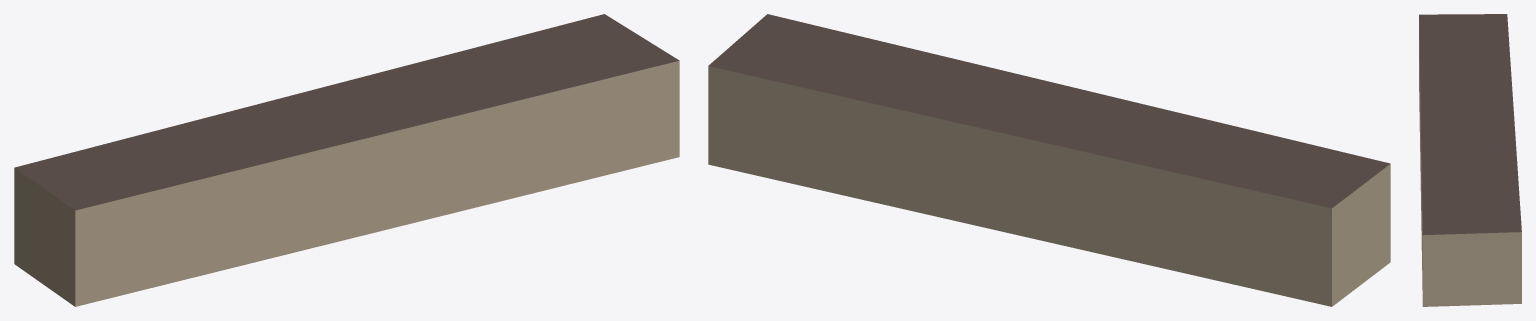
3 views of the same model, side by side, from view 1: azimuth 30°, elevation 25°; view 2: azimuth 150°, elevation 25°; view 3: azimuth 270°, elevation 25° (orthographic). The views are drawn at different scales.
Visible parts, largest first — view 1: HP-w1512914148; view 2: HP-w1512914148; view 3: HP-w1512914148.
Boxes of the visible parts, box(x1,y1,x2,y2) form: HP-w1512914148: box(14, 14, 679, 306); HP-w1512914148: box(708, 14, 1390, 306); HP-w1512914148: box(1419, 14, 1521, 306).
Size of the model in its own units: 59.47 by 9 by 11.69.
